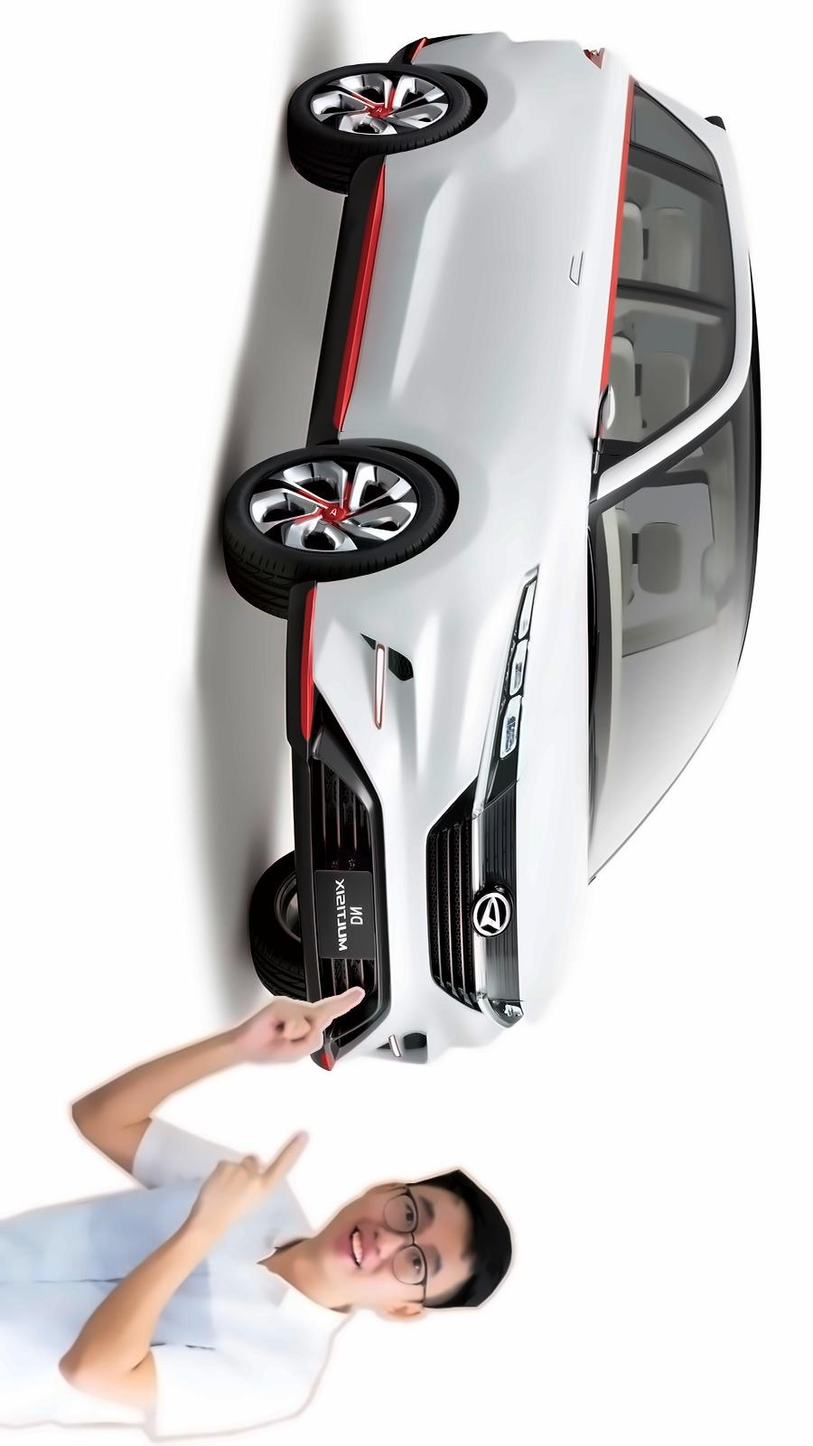Car hood: (504, 486, 613, 1028)
Driver-s door - -F-R-: (303, 231, 776, 495)
Fender - -F-R-: (309, 407, 649, 614)
Front bumper: (276, 520, 501, 1082)
Headlight - -R-: (464, 554, 547, 825)
Passenger-s door - -R-R-: (324, 84, 774, 337)
Rear bumper: (377, 18, 555, 84)
Side bumper - -R-: (284, 134, 406, 457)
Side mirror - -R-: (583, 377, 622, 477)
